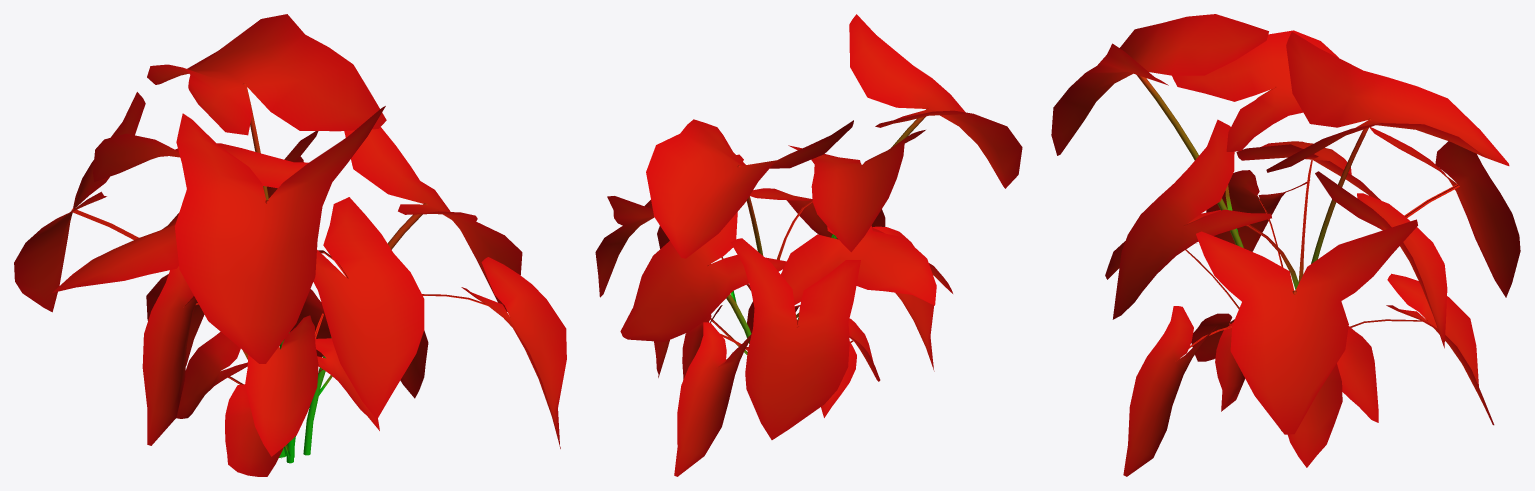
Rendered from PlantFern03.fbx.
The picture shows the model from 3 angles, left to right: view 1: azimuth 30°, elevation 25°; view 2: azimuth 150°, elevation 25°; view 3: azimuth 270°, elevation 25°; orthographic projection. The views are drawn at different scales.
Parts seen in each view (by area): view 1: _e93a_Var3_LOD0; view 2: _e93a_Var3_LOD0; view 3: _e93a_Var3_LOD0.
Part boxes in pixels (left/top/right/bottom): _e93a_Var3_LOD0: left=14, top=14, right=566, bottom=476; _e93a_Var3_LOD0: left=595, top=14, right=1022, bottom=476; _e93a_Var3_LOD0: left=1051, top=14, right=1520, bottom=476.
Size of the model in its own units: 48.8 by 45.58 by 50.99.
